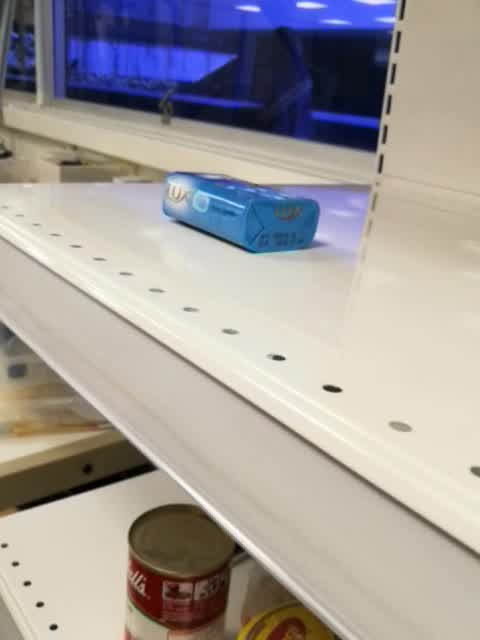soap: (160, 169, 320, 256)
